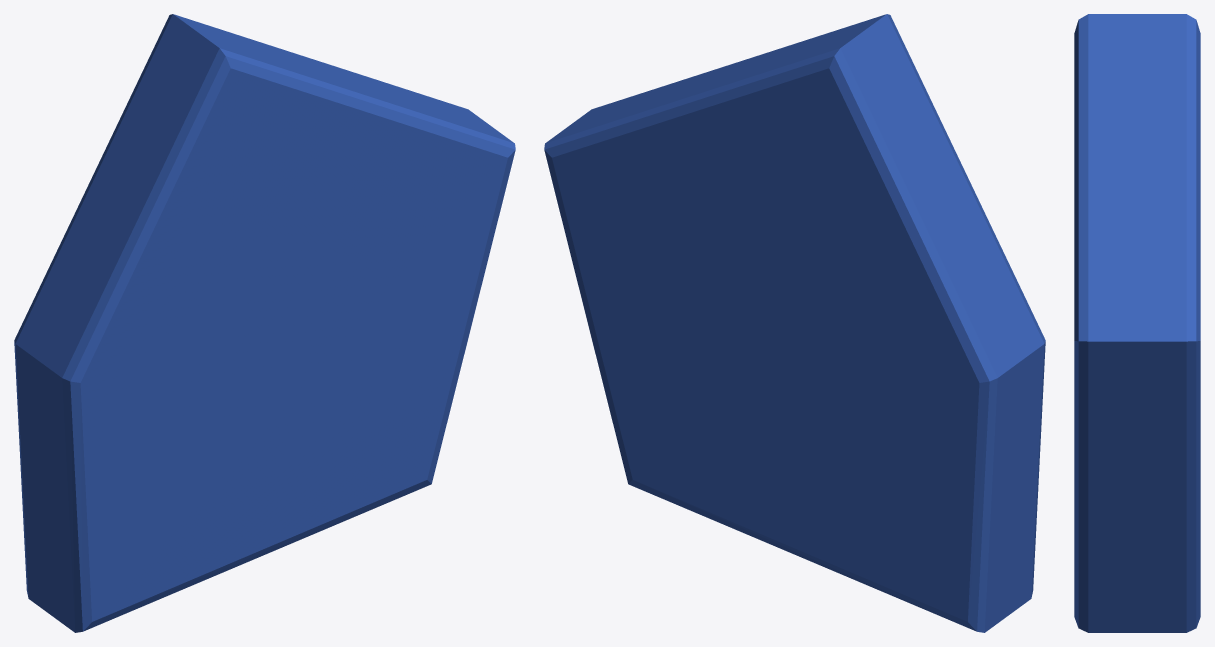
The model's file is arena-shooter-map-kit-armour-shard-66f19934__23114.glb.
The picture shows the model from 3 angles, left to right: view 1: azimuth 30°, elevation 25°; view 2: azimuth 150°, elevation 25°; view 3: azimuth 270°, elevation 25°; orthographic projection. The views are drawn at different scales.
Visible parts, largest first — view 1: armour-shard; view 2: armour-shard; view 3: armour-shard.
Part boxes in pixels (x1,y1,x2,y2): armour-shard: [14, 14, 515, 632]; armour-shard: [544, 14, 1045, 632]; armour-shard: [1074, 14, 1200, 632].
Bounding box in the file's own units: 0.3919 × 0.4545 × 0.09.
